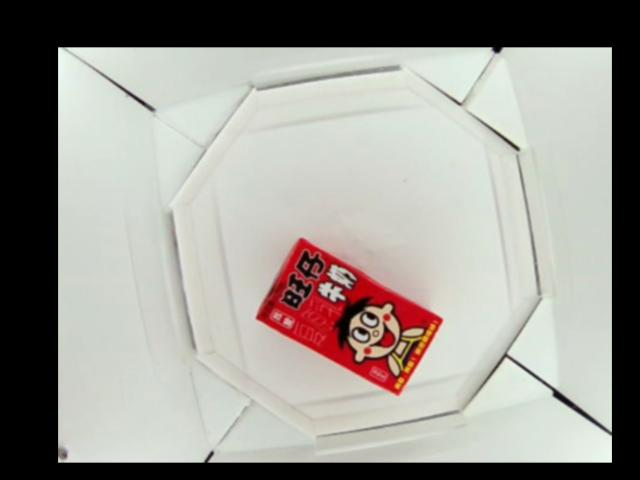Bottle: (253, 235, 442, 393)
